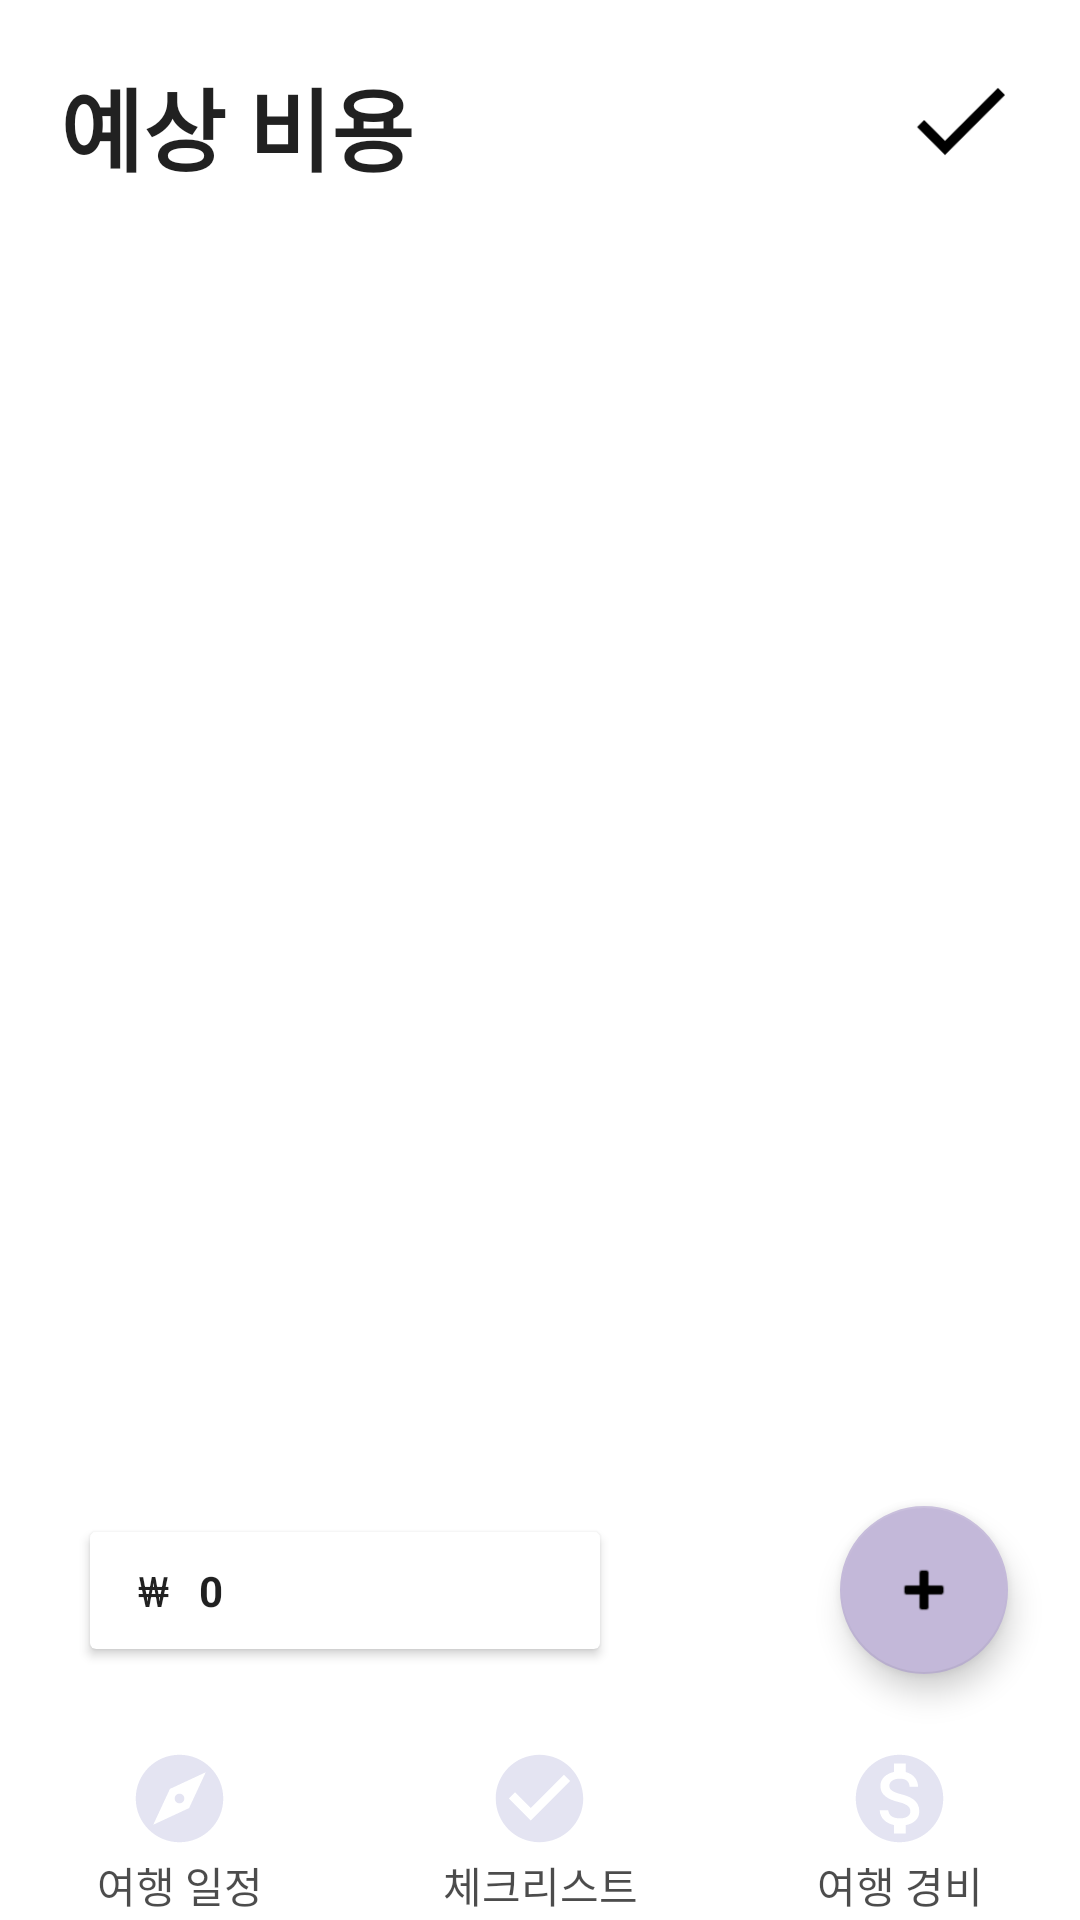

Named icons in this screenshot (1080px x 1920px) and their centers, (x=x, y=y):
add: (x=924, y=1590)
done: (x=961, y=121)
